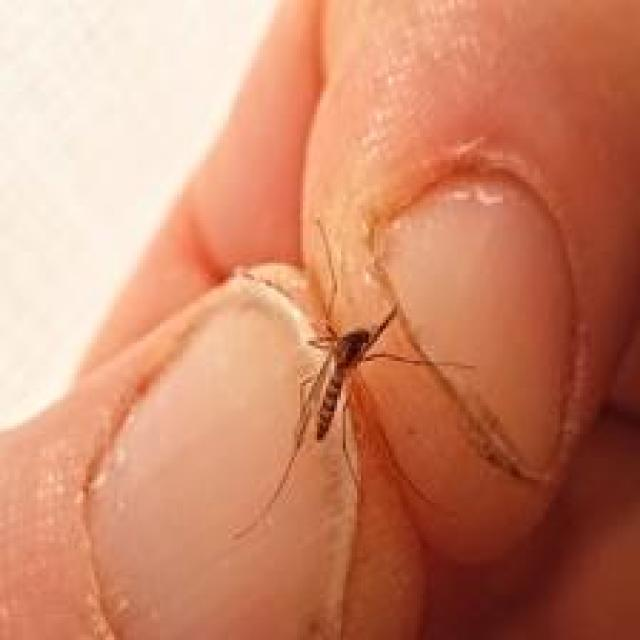Culex: (224, 217, 547, 543)
